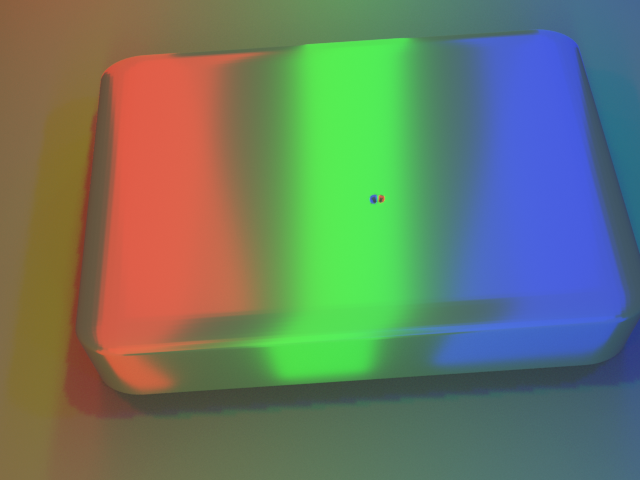dent: (363, 180, 401, 218)
